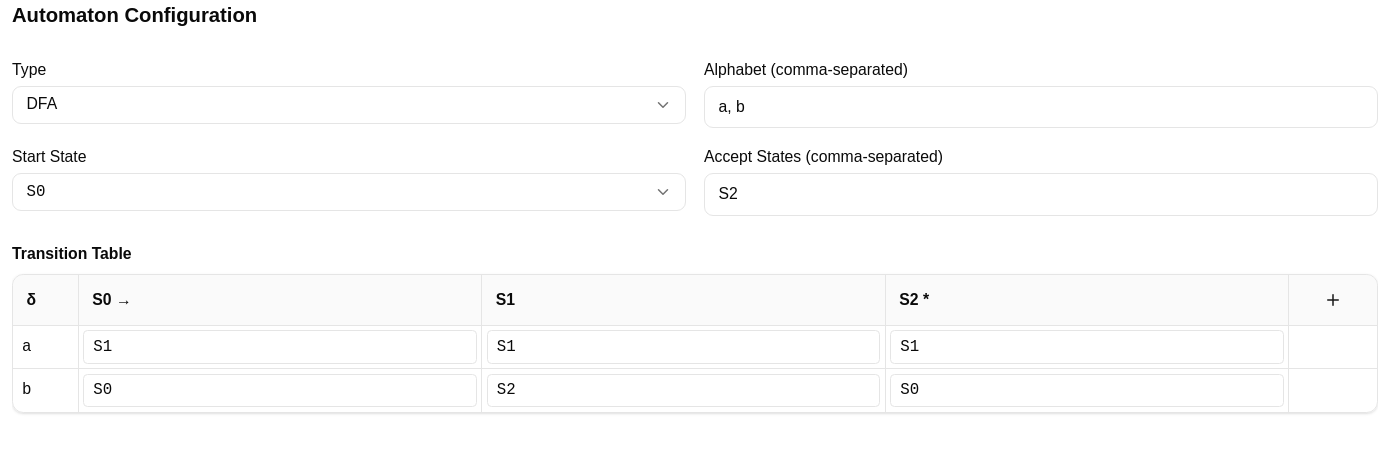
Test: FAConfigView — dropdown handlers › switches the automaton type through the dropdown
The width and height of the screenshot is (1390, 472).
Click the button with test id "fa-type-select" at (42, 104), box x1=12 y1=86 x2=686 y2=124
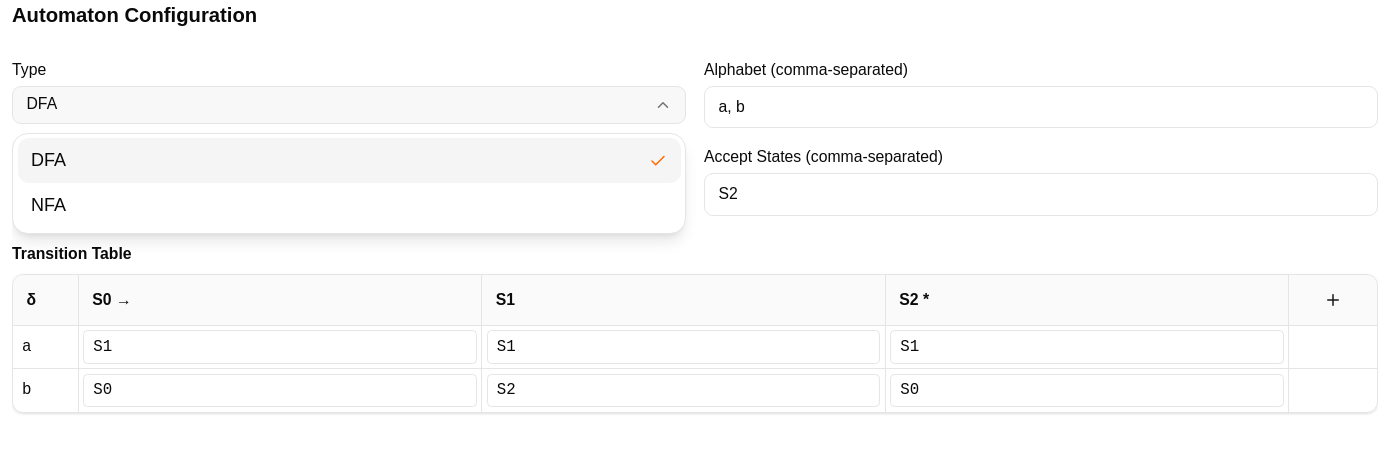
Click the option with test id "fa-type-option-NFA" at (49, 205), box x1=18 y1=183 x2=680 y2=228
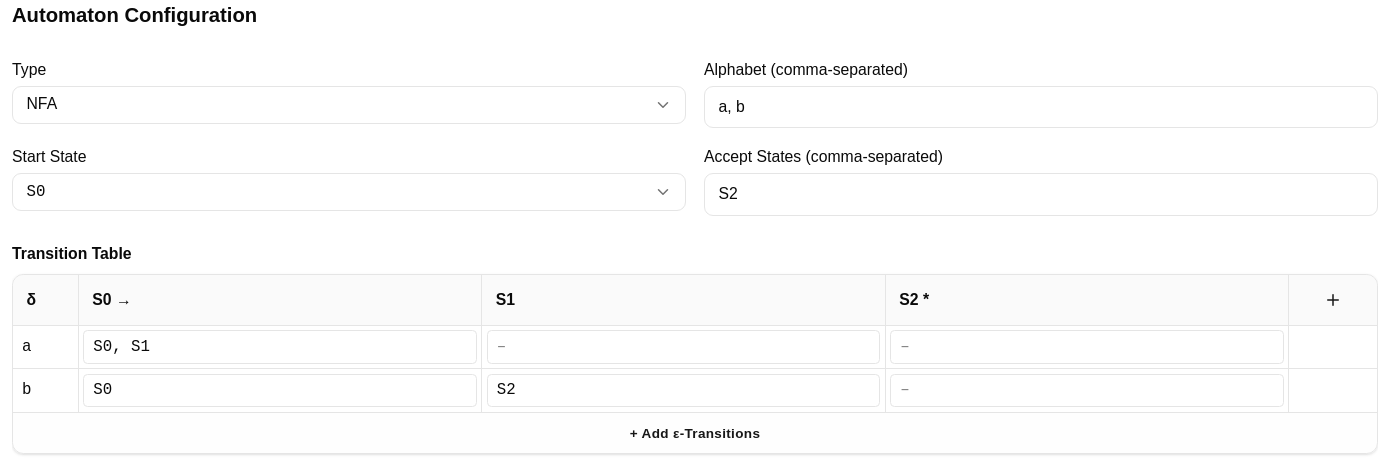
Result: the button with test id "fa-type-select" reads "NFA" at x1=12 y1=86 x2=686 y2=124
